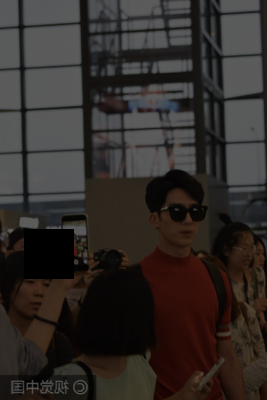without_mask: (159, 200, 201, 248), (10, 272, 51, 318), (231, 240, 255, 269), (252, 248, 266, 273)
